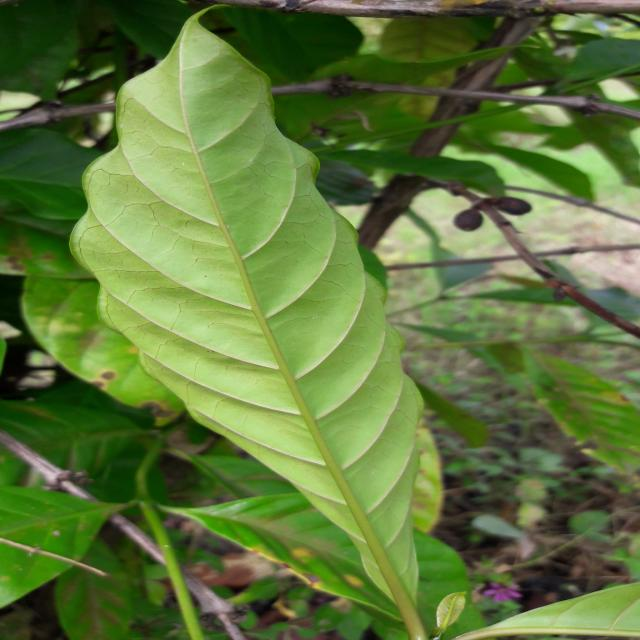Sanas: (69, 11, 464, 640)
